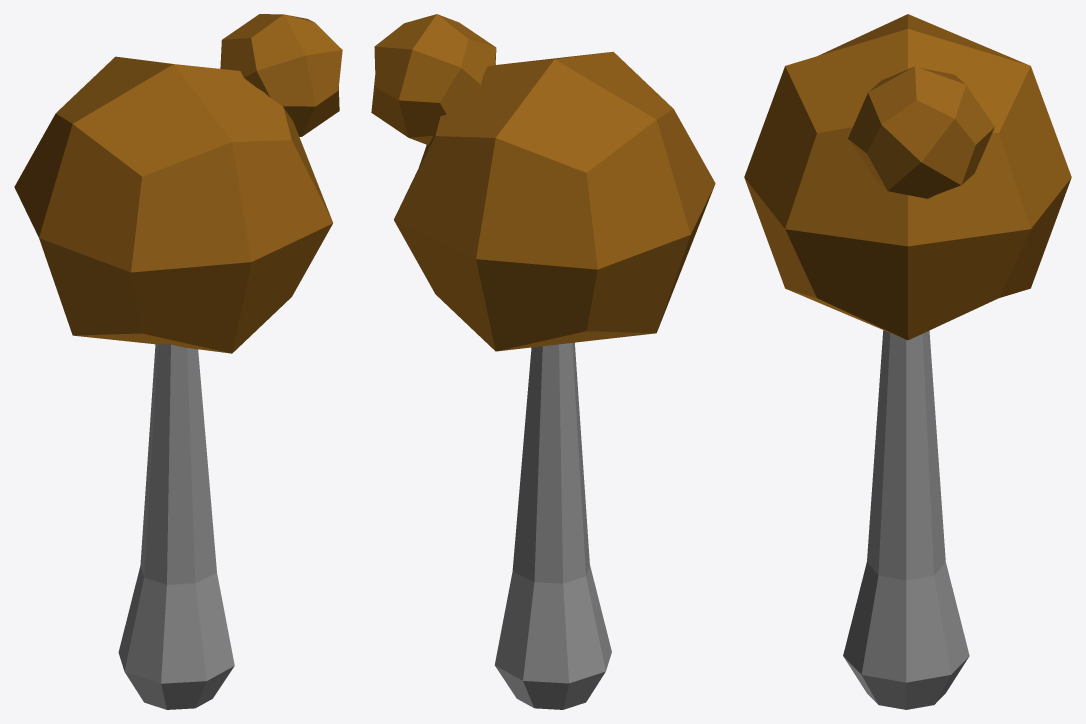
Rendered from Tree1.FBX.
3 renders of one model, left to right at view 1: azimuth 30°, elevation 25°; view 2: azimuth 150°, elevation 25°; view 3: azimuth 270°, elevation 25°, orthographic. The views are drawn at different scales.
Parts seen in each view (by area): view 1: tree_1_leaves_001, tree_1_trunk, tree_1_leaves_002; view 2: tree_1_leaves_001, tree_1_trunk, tree_1_leaves_002; view 3: tree_1_leaves_001, tree_1_trunk, tree_1_leaves_002.
Boxes of the visible parts, x1,y1,x2,y2 form: tree_1_leaves_001: (14,56,332,353); tree_1_trunk: (118,344,234,709); tree_1_leaves_002: (220,14,342,136); tree_1_leaves_001: (394,51,715,351); tree_1_trunk: (494,342,611,709); tree_1_leaves_002: (371,14,496,144); tree_1_leaves_001: (744,14,1071,340); tree_1_trunk: (843,330,969,709); tree_1_leaves_002: (848,66,994,199).
Size of the model in its own units: 95.84 by 195 by 84.63.
